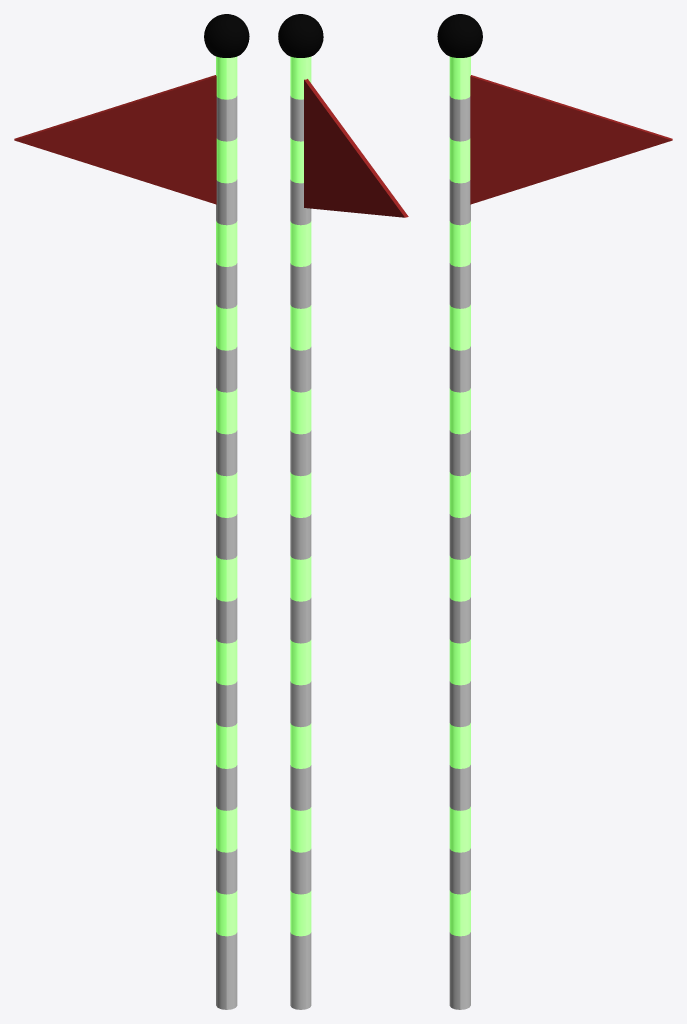
The model's file is Hole 6 Flag.glb.
3 renders of one model, left to right at view 1: azimuth 90°, elevation 25°; view 2: azimuth 210°, elevation 25°; view 3: azimuth 270°, elevation 25°, orthographic.
Parts seen in each view (by area): view 1: Hole 6 Flag; view 2: Hole 6 Flag; view 3: Hole 6 Flag.
Part boxes in pixels (x1,y1,x2,y2): Hole 6 Flag: (14,14,249,1009); Hole 6 Flag: (278,14,408,1009); Hole 6 Flag: (437,14,672,1009).
Bounding box in the file's own units: 0.0858 × 2.06 × 0.4429.
